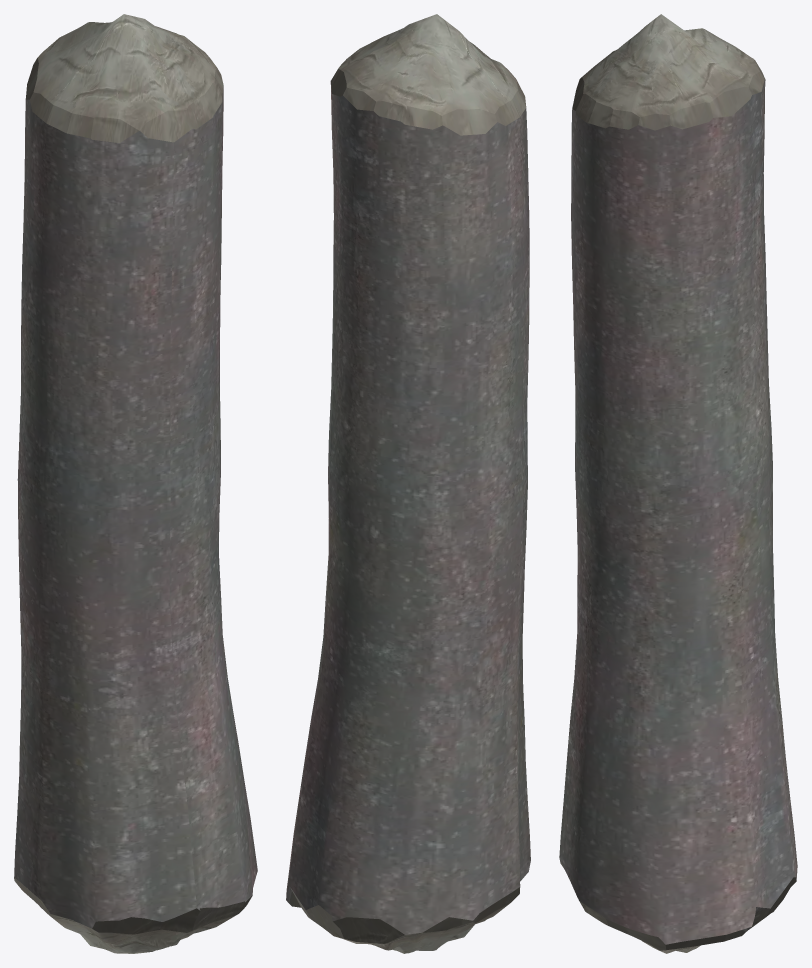
3 views of the same model, side by side, from view 1: azimuth 30°, elevation 25°; view 2: azimuth 150°, elevation 25°; view 3: azimuth 270°, elevation 25° (orthographic). The views are drawn at different scales.
Visible parts, largest first — view 1: SM_GF_Ash_Tree_03_quarter_01_LOD0; view 2: SM_GF_Ash_Tree_03_quarter_01_LOD0; view 3: SM_GF_Ash_Tree_03_quarter_01_LOD0.
Part boxes in pixels (left/top/right/bottom): SM_GF_Ash_Tree_03_quarter_01_LOD0: left=14, top=14, right=257, bottom=953; SM_GF_Ash_Tree_03_quarter_01_LOD0: left=286, top=14, right=530, bottom=953; SM_GF_Ash_Tree_03_quarter_01_LOD0: left=559, top=14, right=797, bottom=953.
Bounding box in the file's own units: 0.5918 × 2.46 × 0.5786.
Materials: 1 (1 with a texture image).
